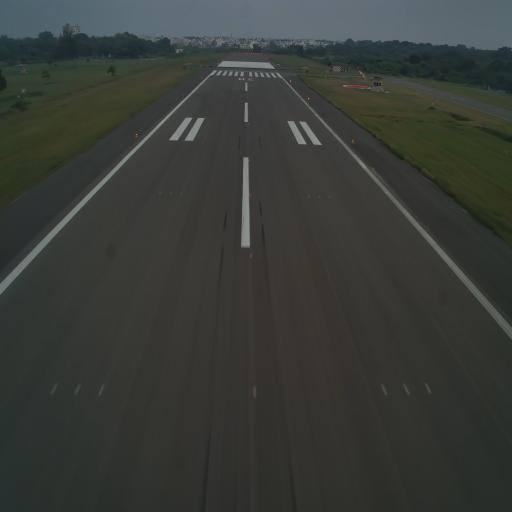off: (400, 378, 412, 400), (50, 378, 62, 398), (97, 377, 107, 398), (72, 379, 82, 398), (422, 378, 432, 397), (379, 381, 389, 399), (158, 190, 162, 198), (168, 190, 172, 198), (179, 192, 184, 198), (306, 193, 310, 200), (318, 194, 322, 201), (328, 194, 332, 199)
on: (246, 190, 253, 202), (249, 250, 254, 262)
